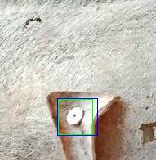text: (58, 99, 92, 134)
